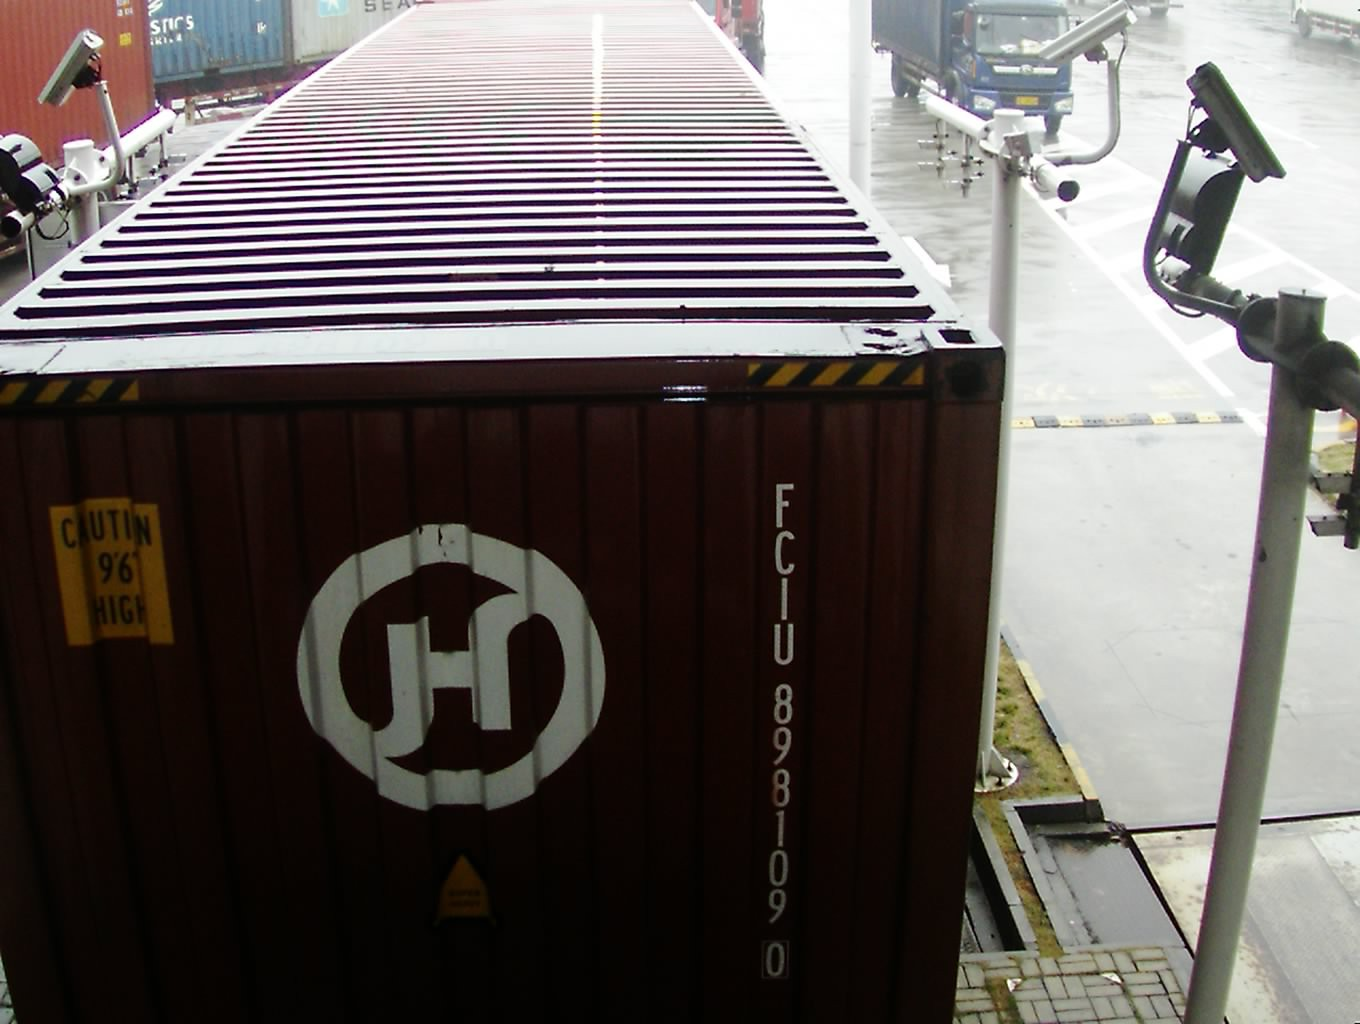words: (758, 471, 802, 986)
